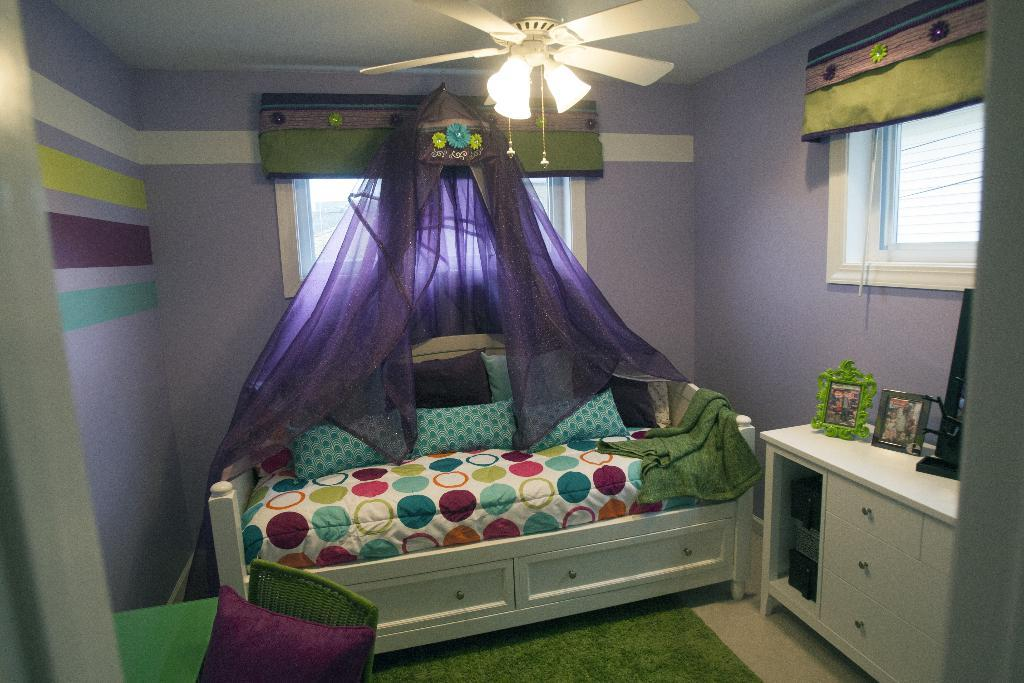cabinet_door: (526, 533, 728, 578), (364, 580, 506, 614), (831, 598, 908, 660), (834, 534, 912, 593), (830, 487, 912, 530)
handle: (856, 503, 875, 519), (563, 568, 580, 584), (451, 589, 468, 604), (854, 616, 868, 634), (856, 557, 870, 572), (679, 548, 696, 560)
